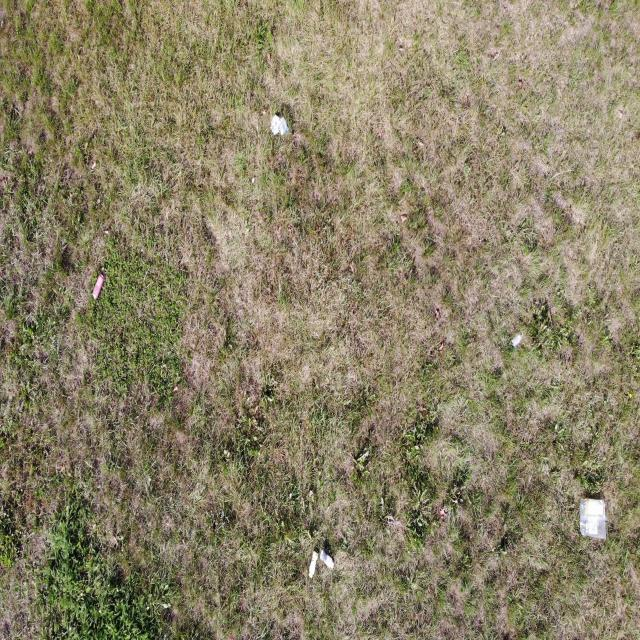rubbish: (580, 498, 606, 540), (270, 115, 289, 136), (91, 274, 104, 301), (319, 550, 334, 568), (309, 551, 318, 578), (511, 333, 522, 347)
